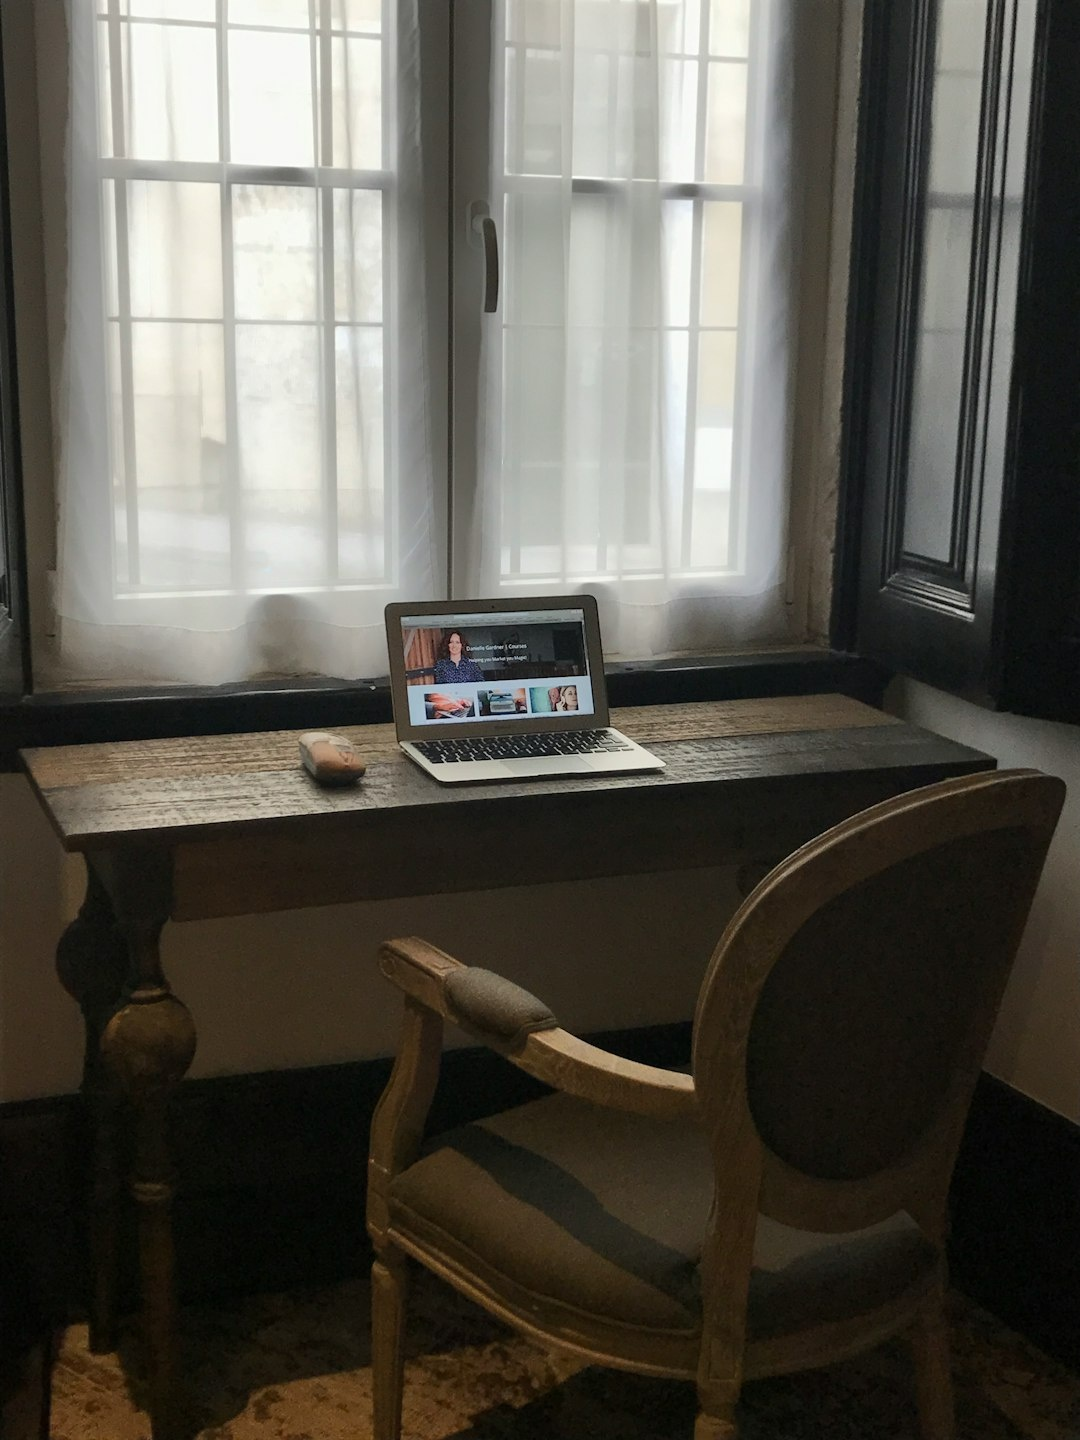laptop: (366, 581, 695, 786)
